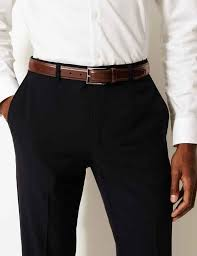F_belt: (16, 44, 172, 90)
F_dress pants: (3, 75, 178, 256)
